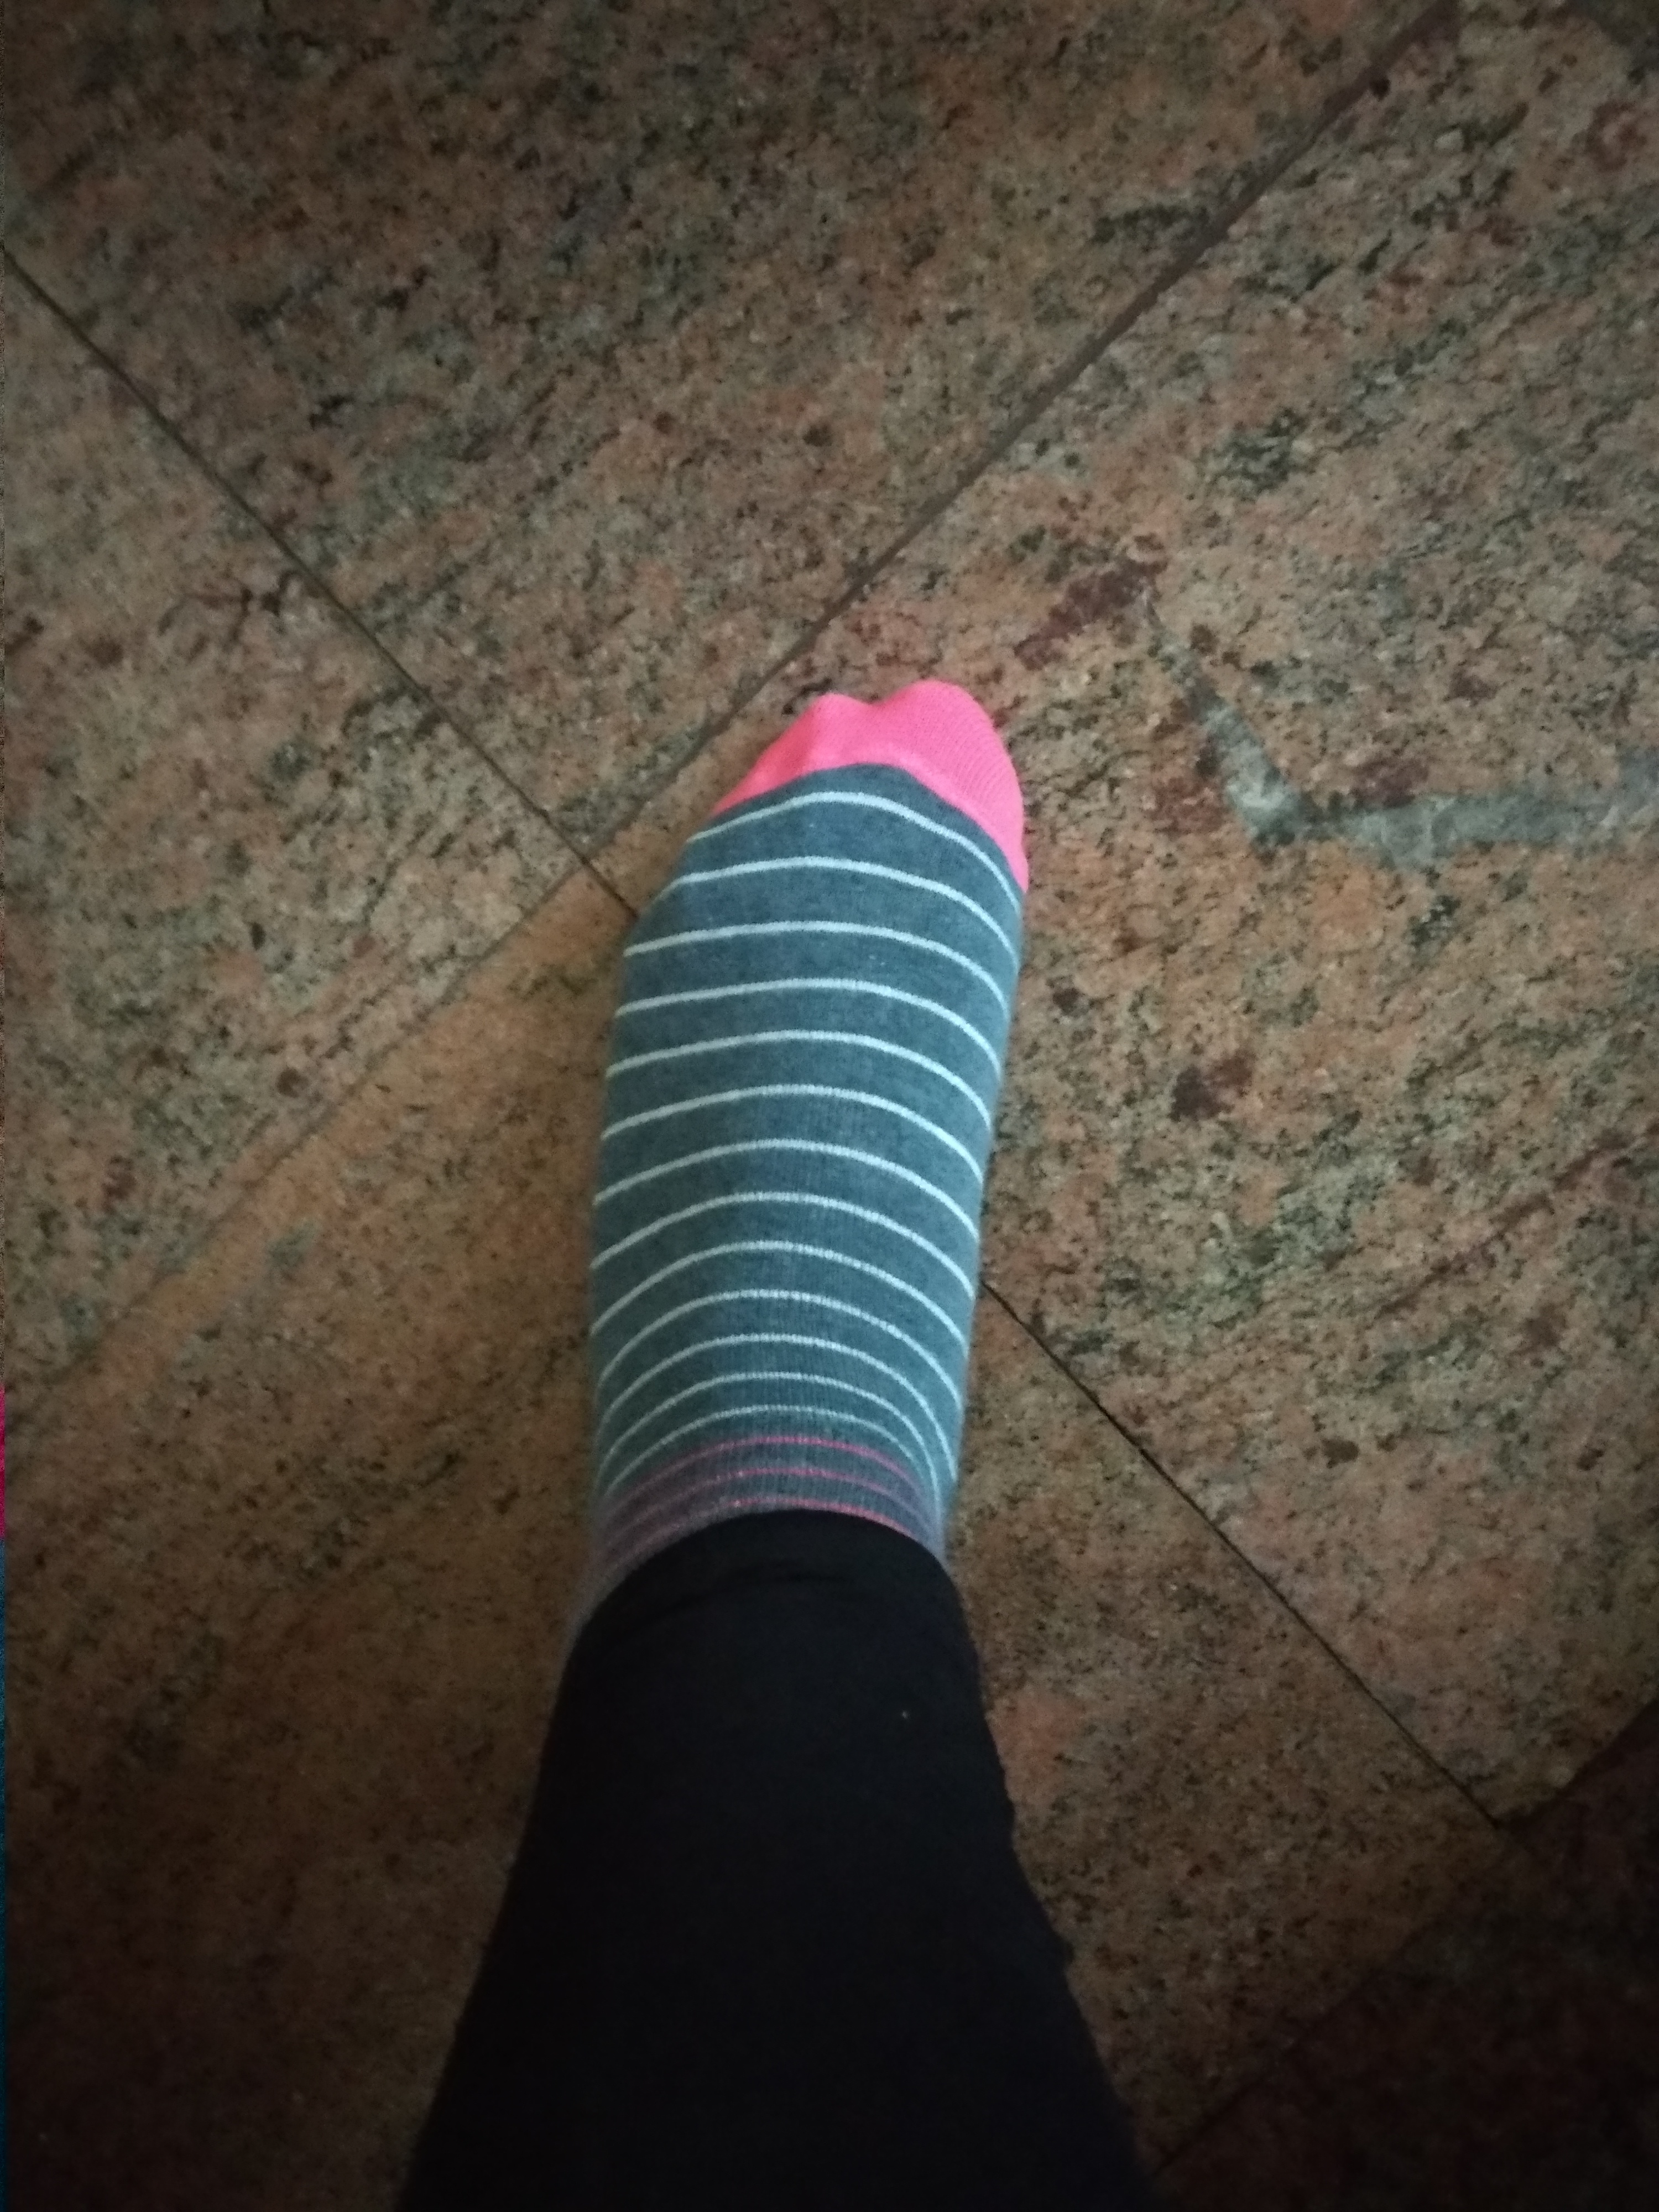feet: (505, 660, 1063, 1653)
